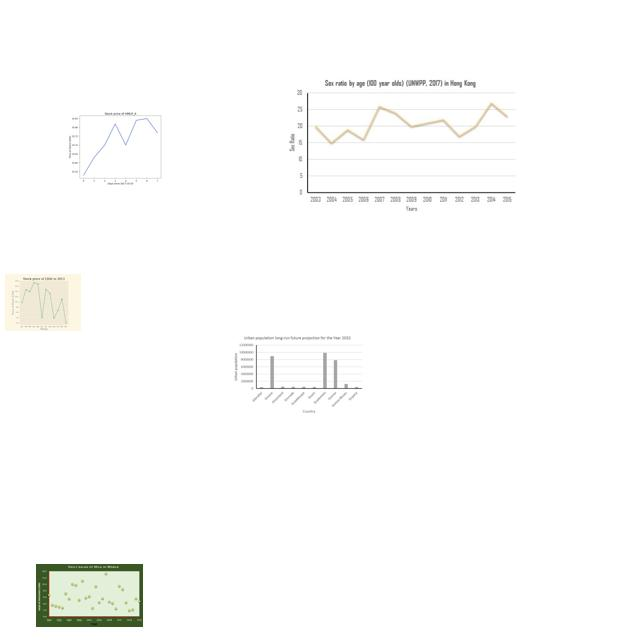Graph: (286, 78, 518, 215), (231, 333, 364, 415), (60, 106, 178, 187), (36, 564, 143, 627), (5, 274, 81, 331)
